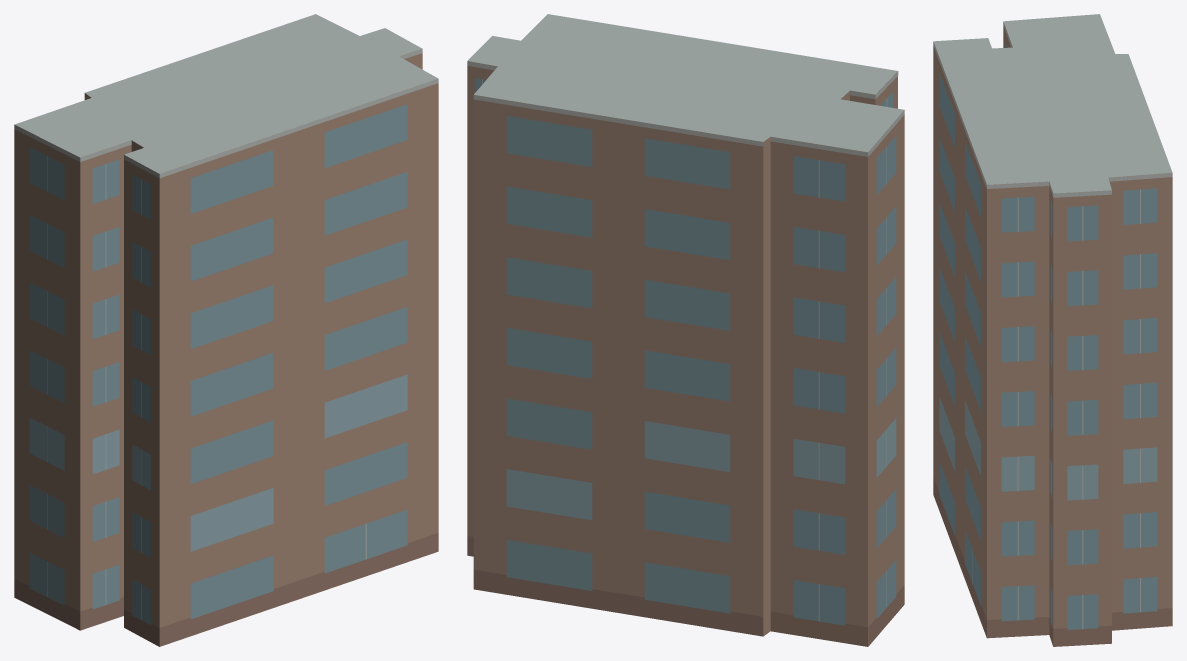
Rendered from survey-upis-32967326.glb.
3 renders of one model, left to right at view 1: azimuth 30°, elevation 25°; view 2: azimuth 150°, elevation 25°; view 3: azimuth 270°, elevation 25°, orthographic. The views are drawn at different scales.
Visible parts, largest first — view 1: survey-upis-32967326.tmp; view 2: survey-upis-32967326.tmp; view 3: survey-upis-32967326.tmp.
Boxes of the visible parts, x1,y1,x2,y2 form: survey-upis-32967326.tmp: (14, 14, 438, 646); survey-upis-32967326.tmp: (467, 14, 904, 646); survey-upis-32967326.tmp: (933, 14, 1172, 646).
Bounding box in the file's own units: 22.01 × 25.9 × 12.4.
